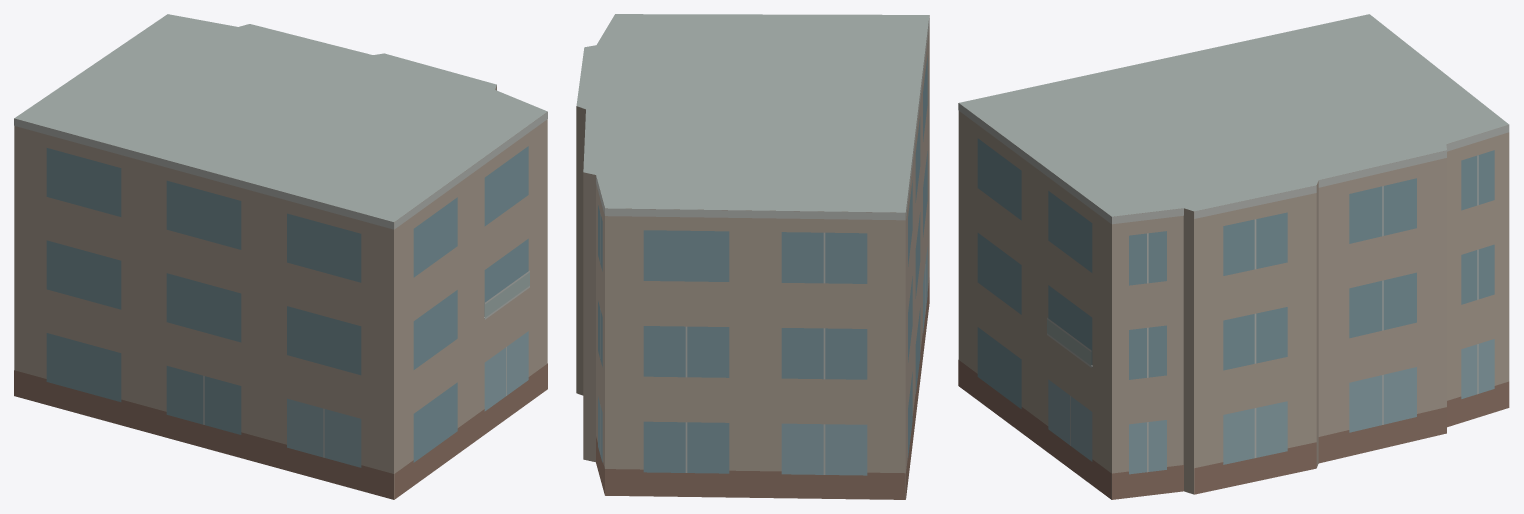
File: survey-upis-32767448.glb
3 views of the same model, side by side, from view 1: azimuth 30°, elevation 25°; view 2: azimuth 150°, elevation 25°; view 3: azimuth 270°, elevation 25° (orthographic). The views are drawn at different scales.
Parts seen in each view (by area): view 1: survey-upis-32767448.tmp; view 2: survey-upis-32767448.tmp; view 3: survey-upis-32767448.tmp.
Part boxes in pixels (left/top/right/bottom): survey-upis-32767448.tmp: left=14, top=14, right=547, bottom=499; survey-upis-32767448.tmp: left=576, top=14, right=929, bottom=499; survey-upis-32767448.tmp: left=958, top=14, right=1509, bottom=499.
Bounding box in the file's own units: 13.98 × 9.1 × 16.05.
